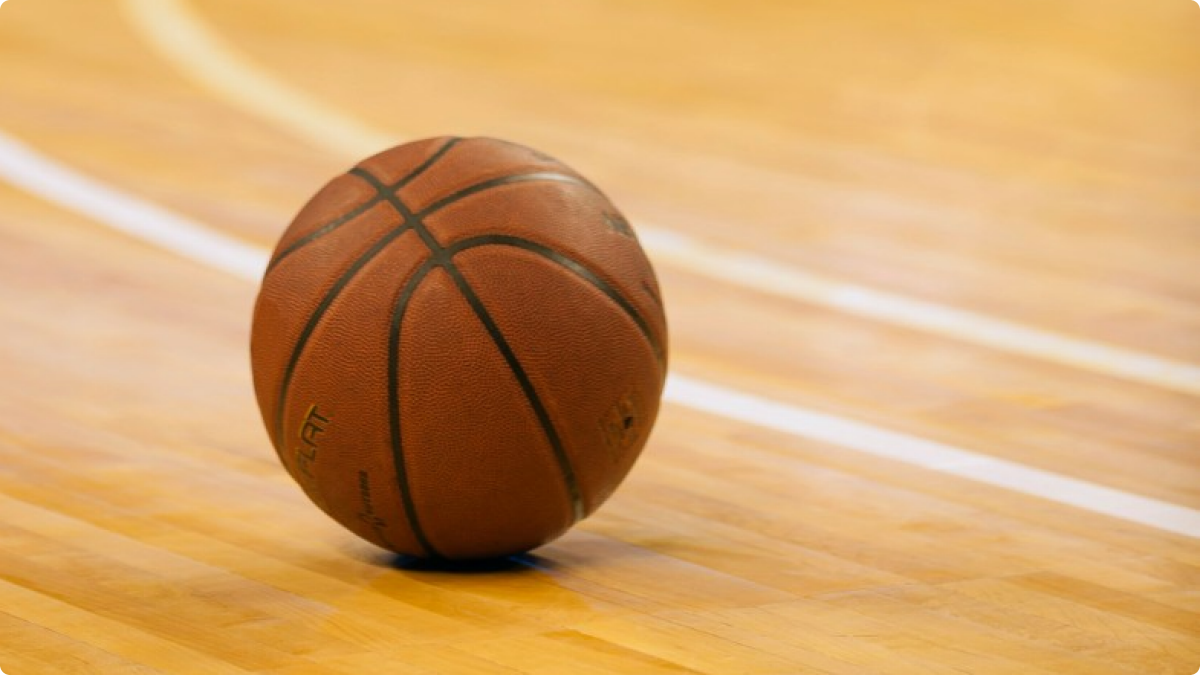Basketball: (244, 133, 678, 568)
